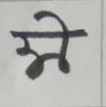i_matra: (46, 11, 74, 71)
